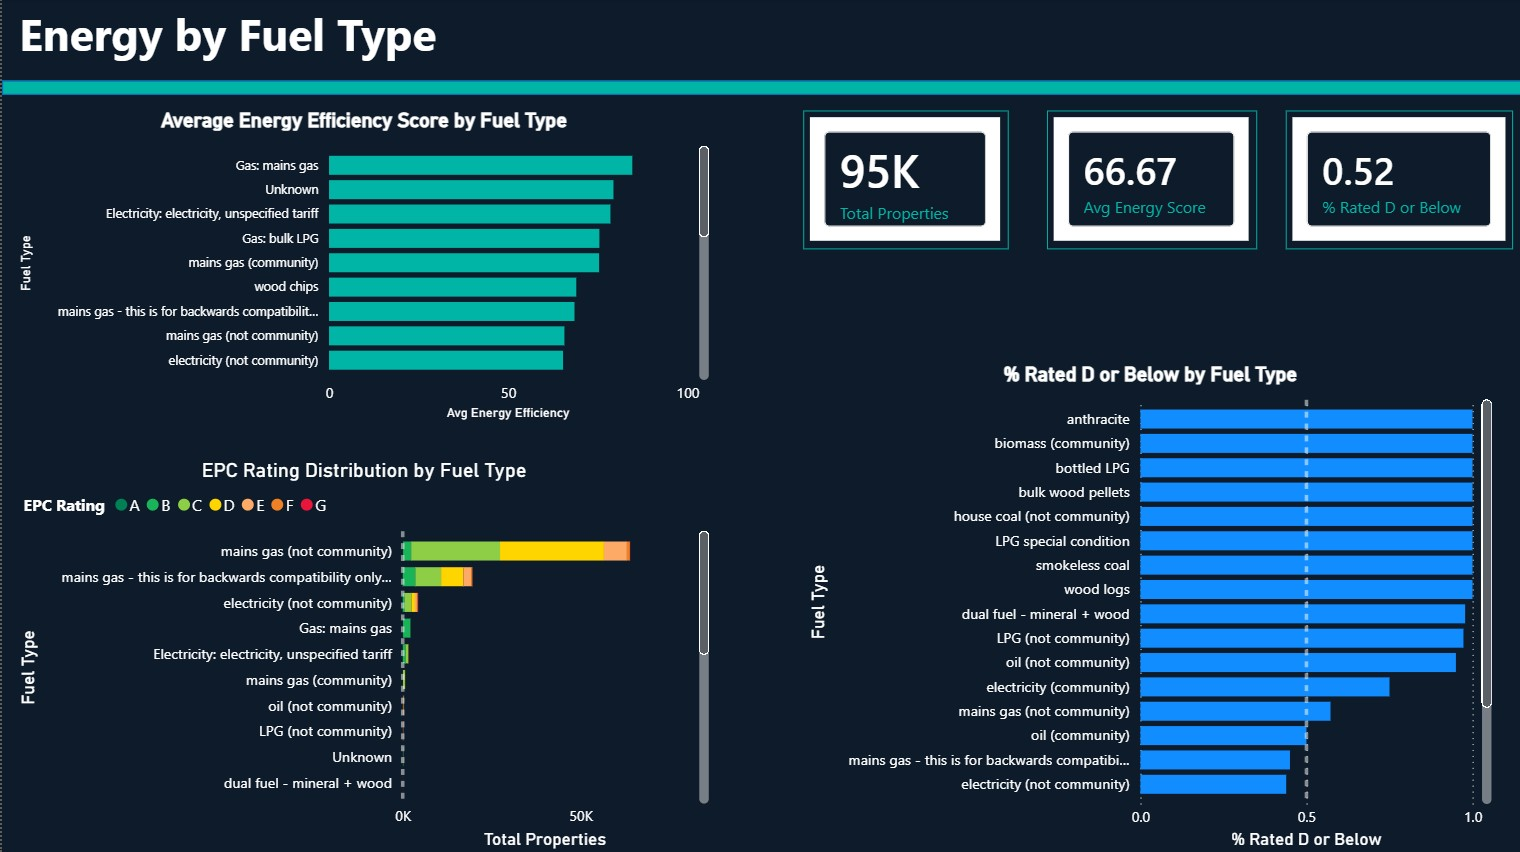

What the dashboard file says about the page in this screenshot:
{"tool":"powerbi","page":{"name":"Energy by Fuel Type","canvas":[1280,720],"ordinal":6},"visuals":[{"type":"textbox","box":[9.5,0,1248,93.3],"z":0},{"type":"shape","box":[0,69,1280.5,12.2],"z":1000},{"type":"clusteredBarChart","title":"Average Energy Efficiency Score by Fuel Type","fields":{"Y":["_Measures.Avg Energy Efficiency"],"Category":["Dim_Fuel.MAIN_FUEL"]},"box":[9.7,92.5,590.2,267.7],"z":2000},{"type":"barChart","title":" EPC Rating Distribution by Fuel Type","fields":{"Category":["Dim_Fuel.MAIN_FUEL"],"Y":["_Measures.Total Properties"],"Series":["Dim_EnergyRating.CURRENT_ENERGY_RATING"]},"box":[9.7,387,590.2,333.4],"z":3000},{"type":"cardVisual","fields":{"Data":["_Measures.Total Properties"]},"box":[674.2,94.9,172.8,116.8],"z":4000},{"type":"cardVisual","fields":{"Data":["_Measures.Avg Energy Score"]},"box":[878.6,94.9,176.5,116.8],"z":5000},{"type":"cardVisual","fields":{"Data":["_Measures.% Rated D or Below"]},"box":[1079.4,94.9,191.1,116.8],"z":6000},{"type":"clusteredBarChart","title":"% Rated D or Below by Fuel Type","fields":{"Category":["Dim_Fuel.MAIN_FUEL"],"Y":["_Measures.% Rated D or Below"]},"box":[674.2,305.5,584.1,415],"z":7000}]}

Visuals, with their boxes in screenshot pixels (x1, y1, x2, y2), scaled from the page's 1280x720 canvas onto the 1520x852 screenshot:
textbox: left=11, top=0, right=1493, bottom=110
shape: left=0, top=82, right=1519, bottom=96
"Average Energy Efficiency Score by Fuel Type" clusteredBarChart: left=12, top=109, right=712, bottom=426
" EPC Rating Distribution by Fuel Type" barChart: left=12, top=458, right=712, bottom=851
cardVisual - _Measures.Total Properties: left=801, top=112, right=1006, bottom=251
cardVisual - _Measures.Avg Energy Score: left=1043, top=112, right=1253, bottom=251
cardVisual - _Measures.% Rated D or Below: left=1282, top=112, right=1509, bottom=251
"% Rated D or Below by Fuel Type" clusteredBarChart: left=801, top=362, right=1494, bottom=851
